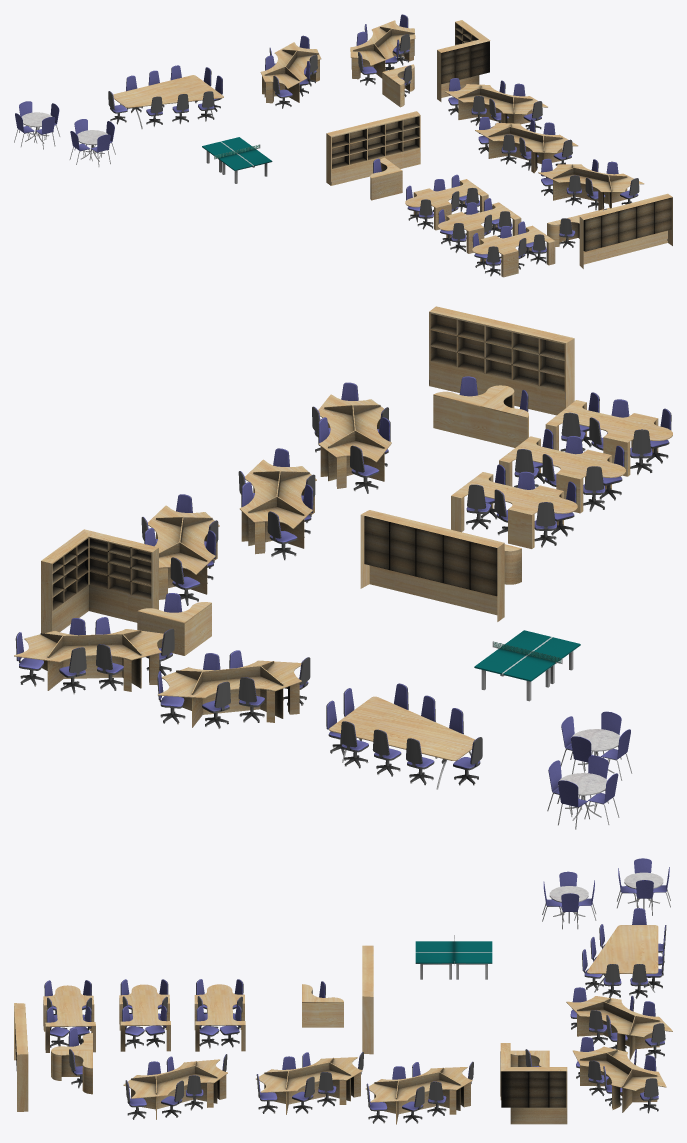
3 renders of one model, top to bottom at view 1: azimuth 30°, elevation 25°; view 2: azimuth 150°, elevation 25°; view 3: azimuth 270°, elevation 25°, orthographic. The views are drawn at different scales.
Parts seen in each view (by area): view 1: objects; view 2: objects; view 3: objects.
Boxes of the visible parts, x1=… form: objects: x1=14, y1=14, x2=672, y2=277; objects: x1=14, y1=306, x2=672, y2=829; objects: x1=14, y1=858, x2=672, y2=1124.
Size of the model in its own units: 17.6 by 2.08 by 20.83.
